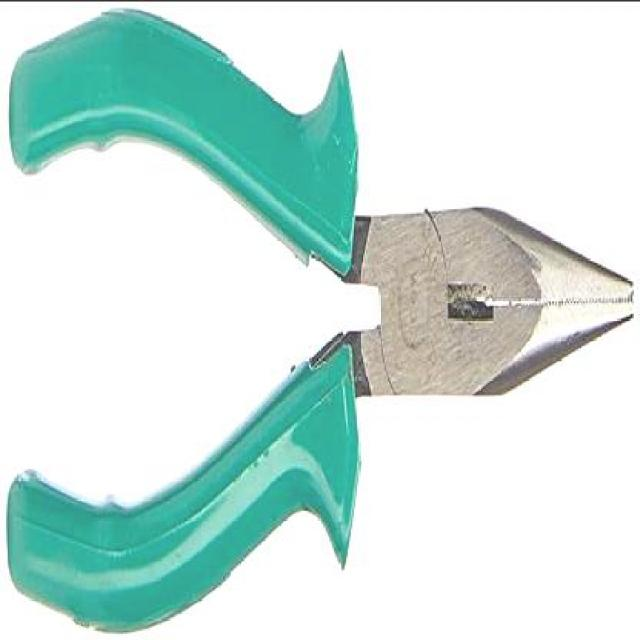Pliers: (9, 12, 638, 625)
